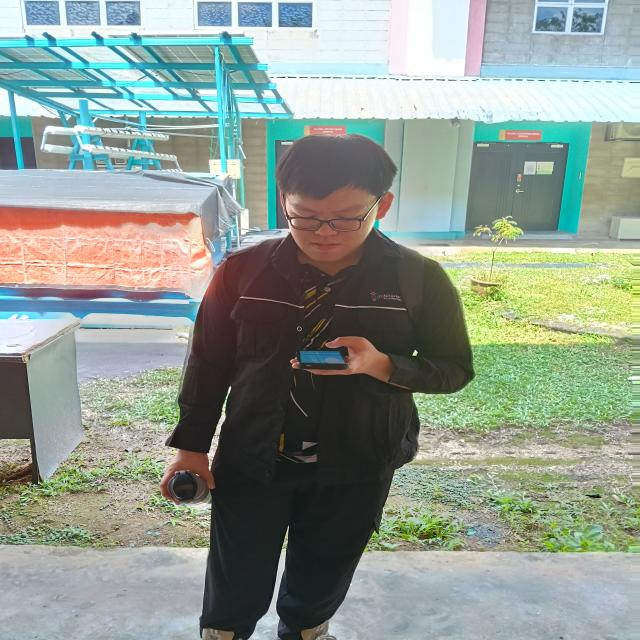person_with_labcoat: (161, 134, 474, 640)
